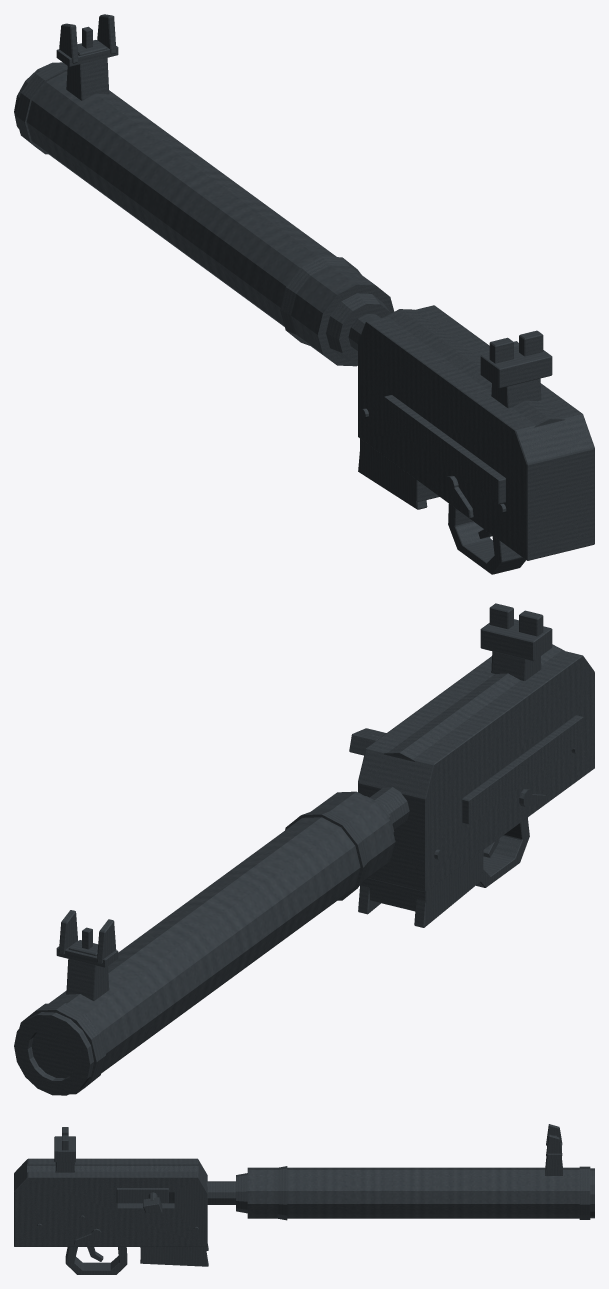
File: weapon_asval.glb
3 views of the same model, one above another, from view 1: azimuth 30°, elevation 25°; view 2: azimuth 150°, elevation 25°; view 3: azimuth 270°, elevation 25° (orthographic). The views are drawn at different scales.
Visible parts, largest first — view 1: body_LOD0; view 2: body_LOD0; view 3: body_LOD0, action_LOD0.
Boxes of the visible parts, x1=… form: body_LOD0: x1=14, y1=14, x2=594, y2=574; body_LOD0: x1=14, y1=603, x2=594, y2=1095; body_LOD0: x1=14, y1=1124, x2=594, y2=1274; action_LOD0: x1=116, y1=1188, x2=168, y2=1212.
Size of what is drawn, in the model's own units: 0.145 by 0.2737 by 1.02.
1 material, 1 textured.
